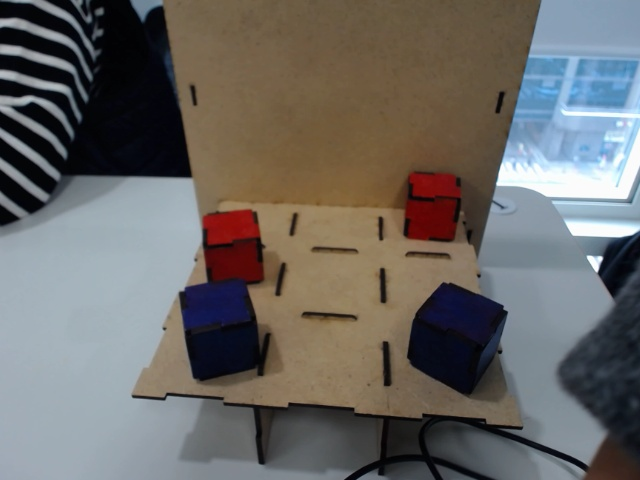blue: (407, 283, 509, 397), (178, 279, 260, 382)
red: (200, 209, 265, 285), (403, 173, 462, 242)
